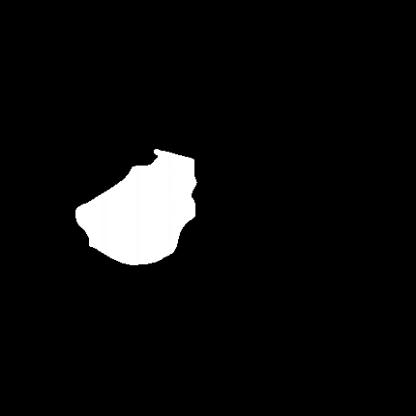malignant: (67, 141, 217, 275)
